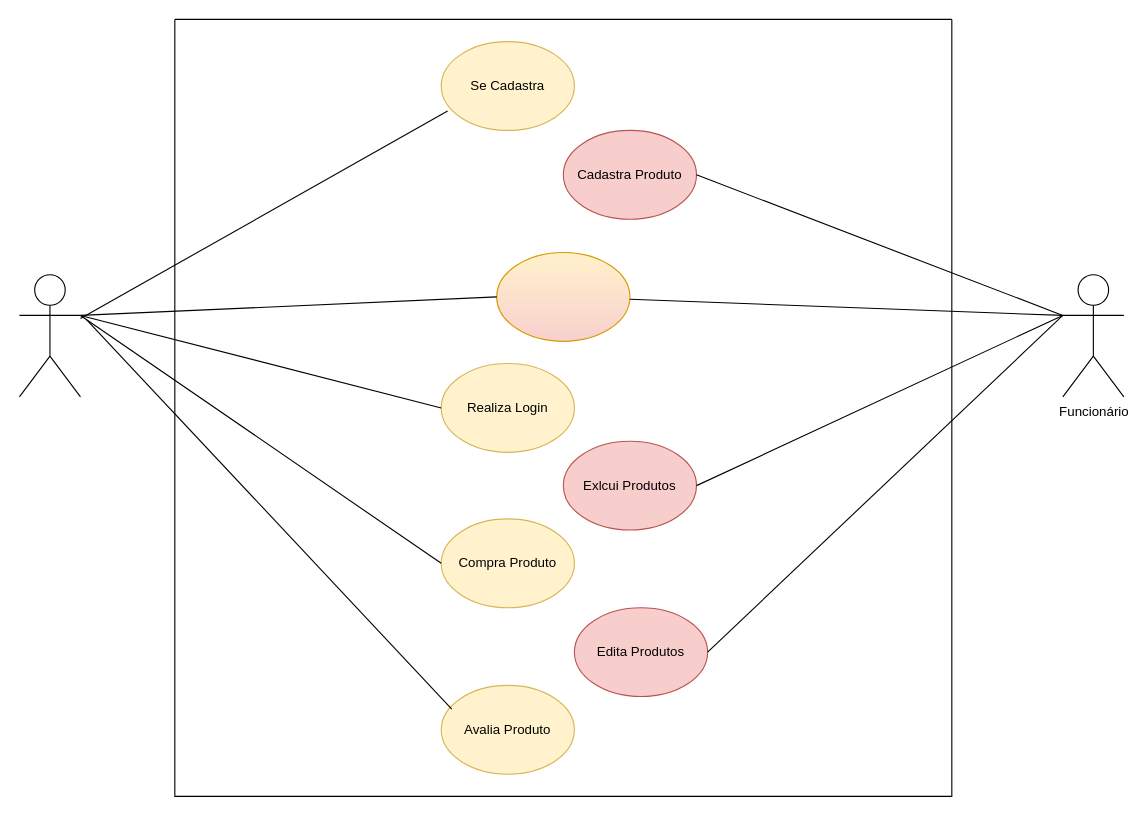
This 1148x816 diagram has some shape labels left out. The shapes that lost their labels are listed below. From the top down, each one's centre as x and y in pixels, then its label:
(x=563, y=296): Consulta Catálogo
(x=49, y=335): Cliente
